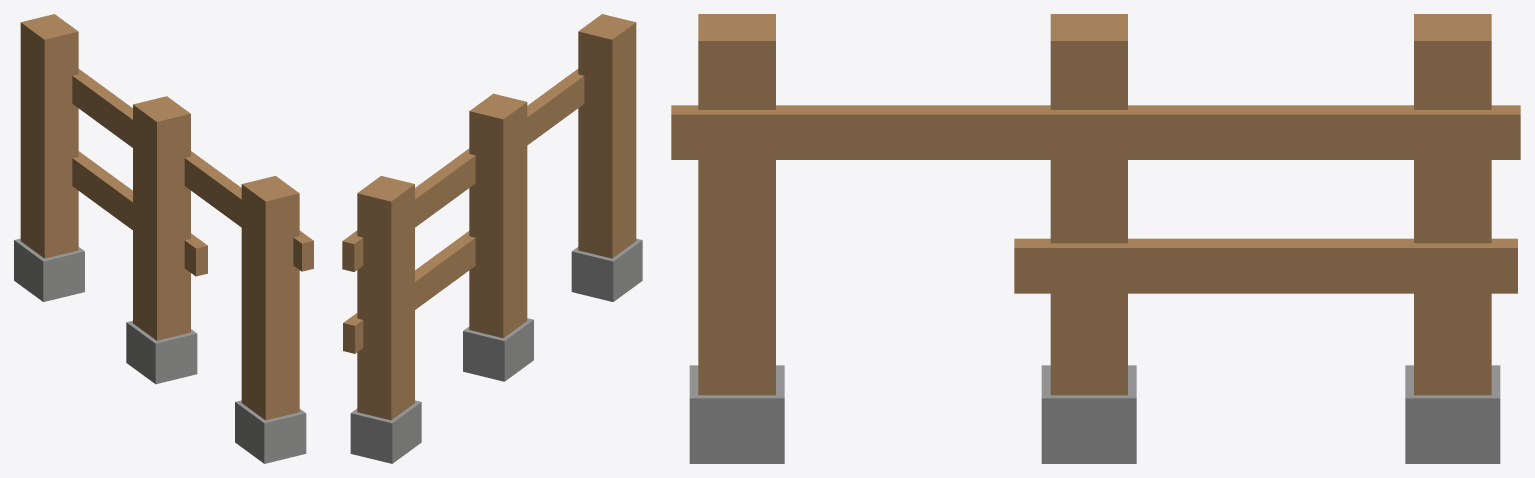
The model's file is fence4_colored.fbx.
The picture shows the model from 3 angles, left to right: view 1: azimuth 30°, elevation 25°; view 2: azimuth 150°, elevation 25°; view 3: azimuth 270°, elevation 25°; orthographic projection. The views are drawn at different scales.
Parts seen in each view (by area): view 1: Cube; view 2: Cube; view 3: Cube.
Part boxes in pixels (box(x1,y1,x2,y2)): Cube: box(14, 14, 313, 463); Cube: box(342, 14, 642, 463); Cube: box(671, 14, 1520, 463).
Bounding box in the file's own units: 65.44 × 371 × 680.
